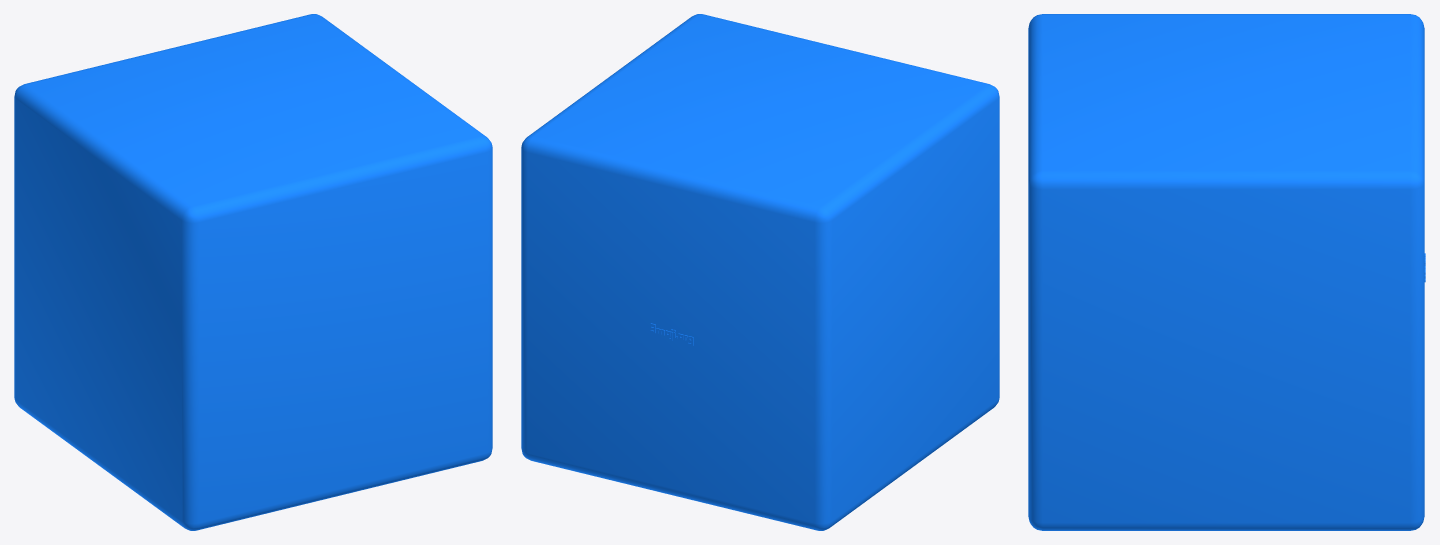
Rendered from blue_square.gltf.
3 views of the same model, side by side, from view 1: azimuth 30°, elevation 25°; view 2: azimuth 150°, elevation 25°; view 3: azimuth 270°, elevation 25° (orthographic). The views are drawn at different scales.
Parts seen in each view (by area): view 1: blue square; view 2: blue square; view 3: blue square.
Boxes of the visible parts, x1=… form: blue square: x1=14, y1=14, x2=492, y2=530; blue square: x1=521, y1=14, x2=999, y2=530; blue square: x1=1028, y1=14, x2=1425, y2=530.
Size of the model in its own units: 1.92 by 1.92 by 1.92.
1 material, 1 textured.
